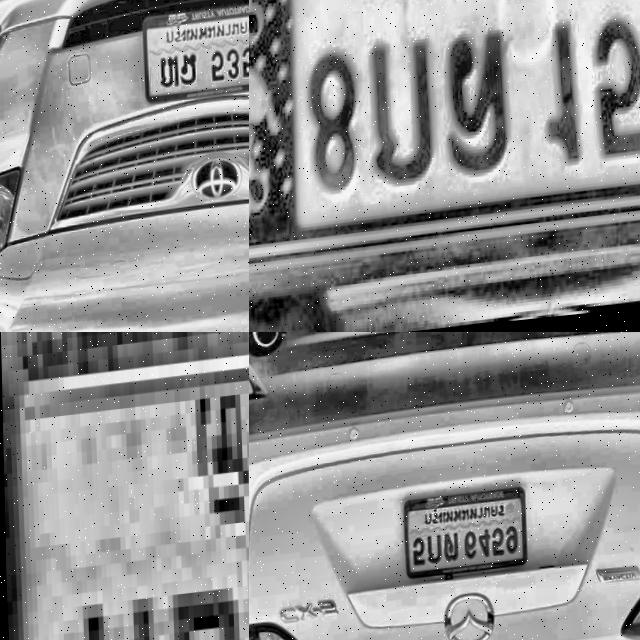license-plate: (249, 0, 640, 312), (0, 332, 249, 640), (400, 490, 528, 589), (141, 8, 249, 117)
